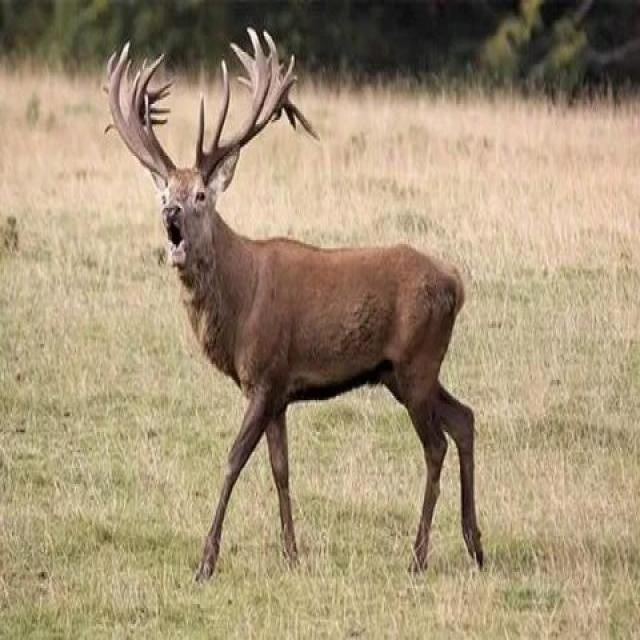deer: (108, 49, 502, 586)
